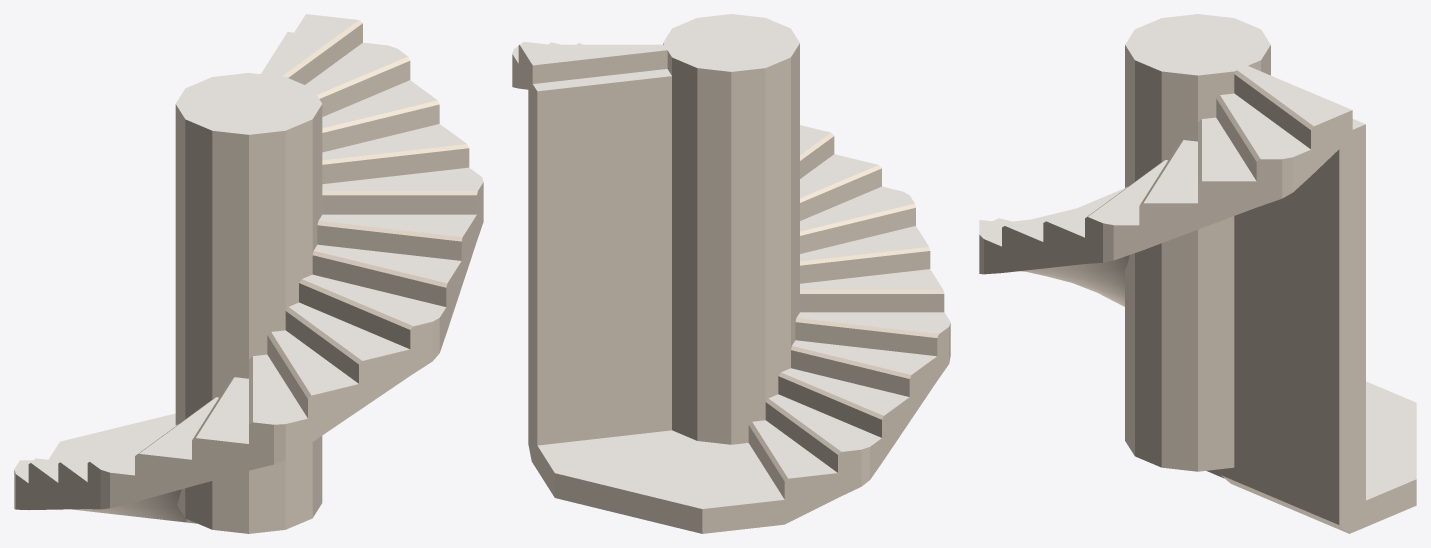
The model's file is Tower_Bottom.glb.
3 renders of one model, left to right at view 1: azimuth 30°, elevation 25°; view 2: azimuth 150°, elevation 25°; view 3: azimuth 270°, elevation 25°, orthographic. The views are drawn at different scales.
Parts seen in each view (by area): view 1: Tower_Bottom; view 2: Tower_Bottom; view 3: Tower_Bottom.
Part boxes in pixels (x1,y1,x2,y2): Tower_Bottom: (14, 14, 483, 533); Tower_Bottom: (512, 14, 950, 533); Tower_Bottom: (979, 14, 1416, 533).
Size of the model in its own units: 3 by 3.2 by 3.
